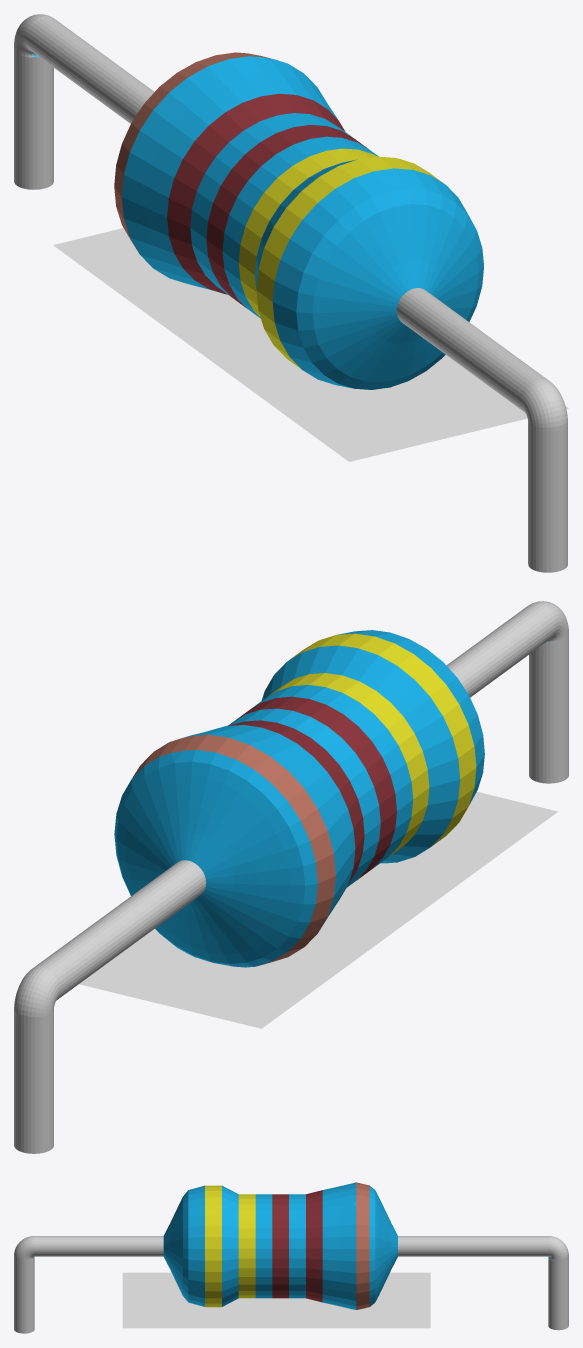
Rendered from R3_blue_1.gltf.
3 views of the same model, one above another, from view 1: azimuth 30°, elevation 25°; view 2: azimuth 150°, elevation 25°; view 3: azimuth 270°, elevation 25° (orthographic). The views are drawn at different scales.
Parts seen in each view (by area): view 1: R3_blue_1, R3_blue_1_plane; view 2: R3_blue_1, R3_blue_1_plane; view 3: R3_blue_1, R3_blue_1_plane.
Part boxes in pixels (x1,y1,x2,y2): R3_blue_1: [14, 14, 567, 572]; R3_blue_1_plane: [53, 228, 568, 461]; R3_blue_1: [14, 601, 568, 1153]; R3_blue_1_plane: [79, 792, 557, 1028]; R3_blue_1: [14, 1182, 568, 1333]; R3_blue_1_plane: [122, 1272, 430, 1328].
Bounding box in the file's own units: 0.0162 × 0.0189 × 0.0676.
